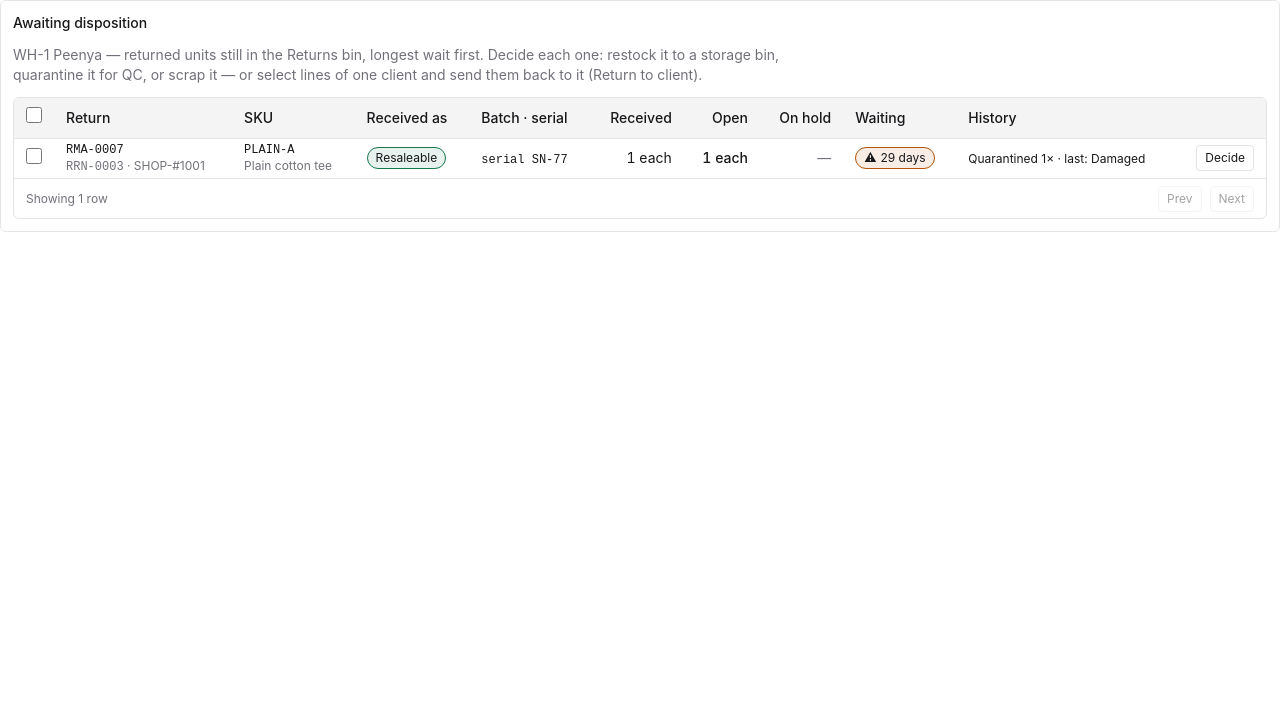
Test: the awaiting-disposition queue (story 4-7a) › Quarantine is disabled on a serial unit, with the reason; the quantity is whole
The width and height of the screenshot is (1280, 720).
What coordinates should you click on to do the following:
click the button with aria-label "Decide PLAIN-A on RMA-0007"
I would click on:
 (1225, 158)
Its box is [1196,145,1254,171].
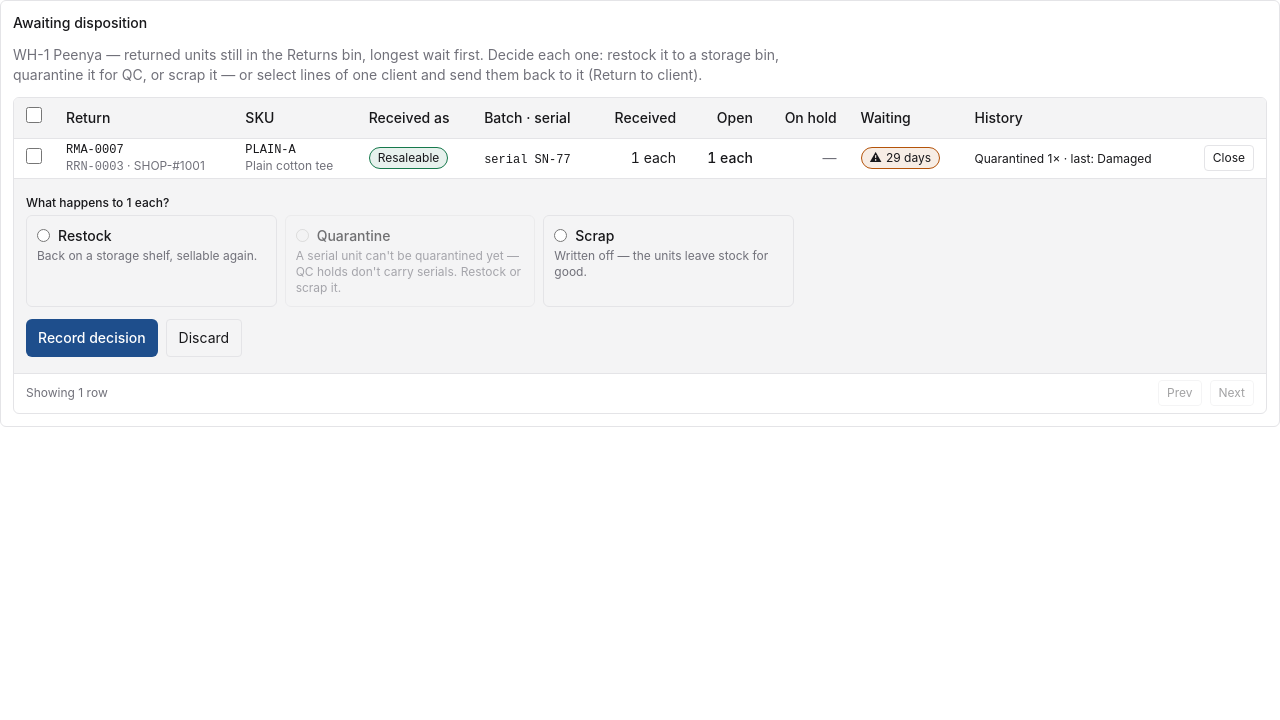
Expected: the text "A serial unit can't be quarantined yet" is shown, [296,248,521,294]
What coordinates should you click on to do the following:
click the radio button labelled "Scrap Written off — the units leave stock for good."
I would click on:
 (561, 236)
Its box is [554,229,567,242].
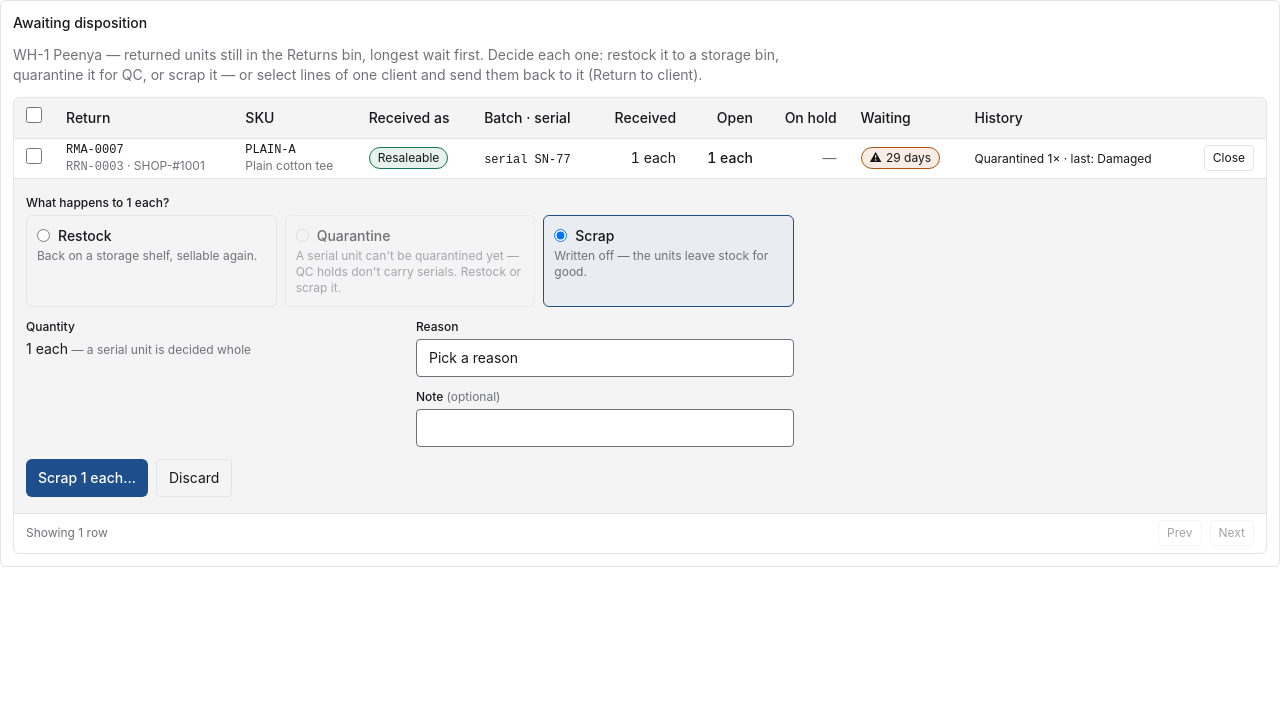
Expected: the text "a serial unit is decided whole" is shown, [68,342,251,356]
